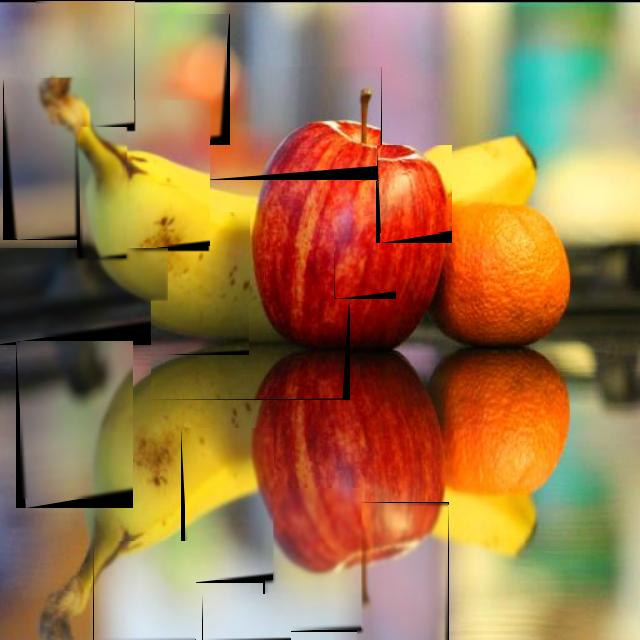Apple: (4, 77, 89, 238), (266, 488, 361, 629), (186, 427, 273, 579), (120, 100, 210, 245), (37, 0, 134, 126), (169, 211, 249, 353), (139, 13, 227, 139), (95, 541, 195, 639), (204, 593, 290, 639)
Banana: (152, 300, 349, 399), (205, 66, 382, 172), (0, 248, 187, 336)
Orange: (20, 341, 133, 498), (357, 503, 448, 639), (335, 180, 395, 296), (378, 145, 452, 232), (81, 127, 126, 257)
